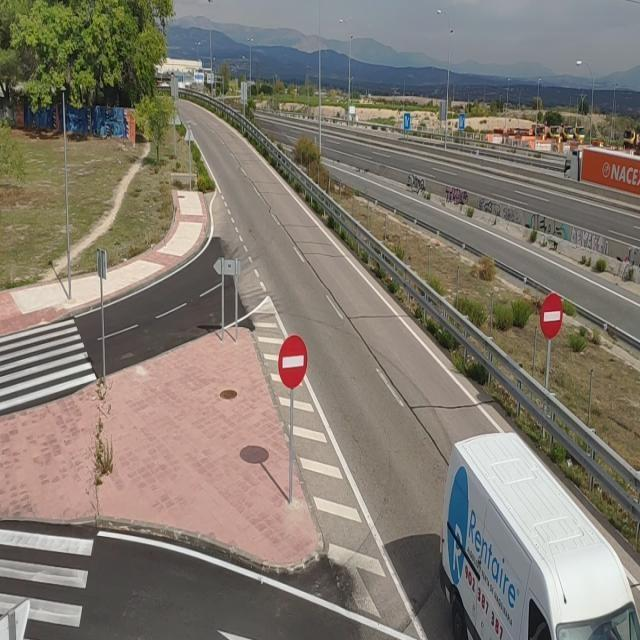Truck: (563, 146, 640, 194), (623, 125, 640, 150), (558, 123, 575, 142), (529, 122, 547, 138), (545, 124, 562, 140), (573, 125, 587, 142)
Van: (435, 430, 640, 640)
